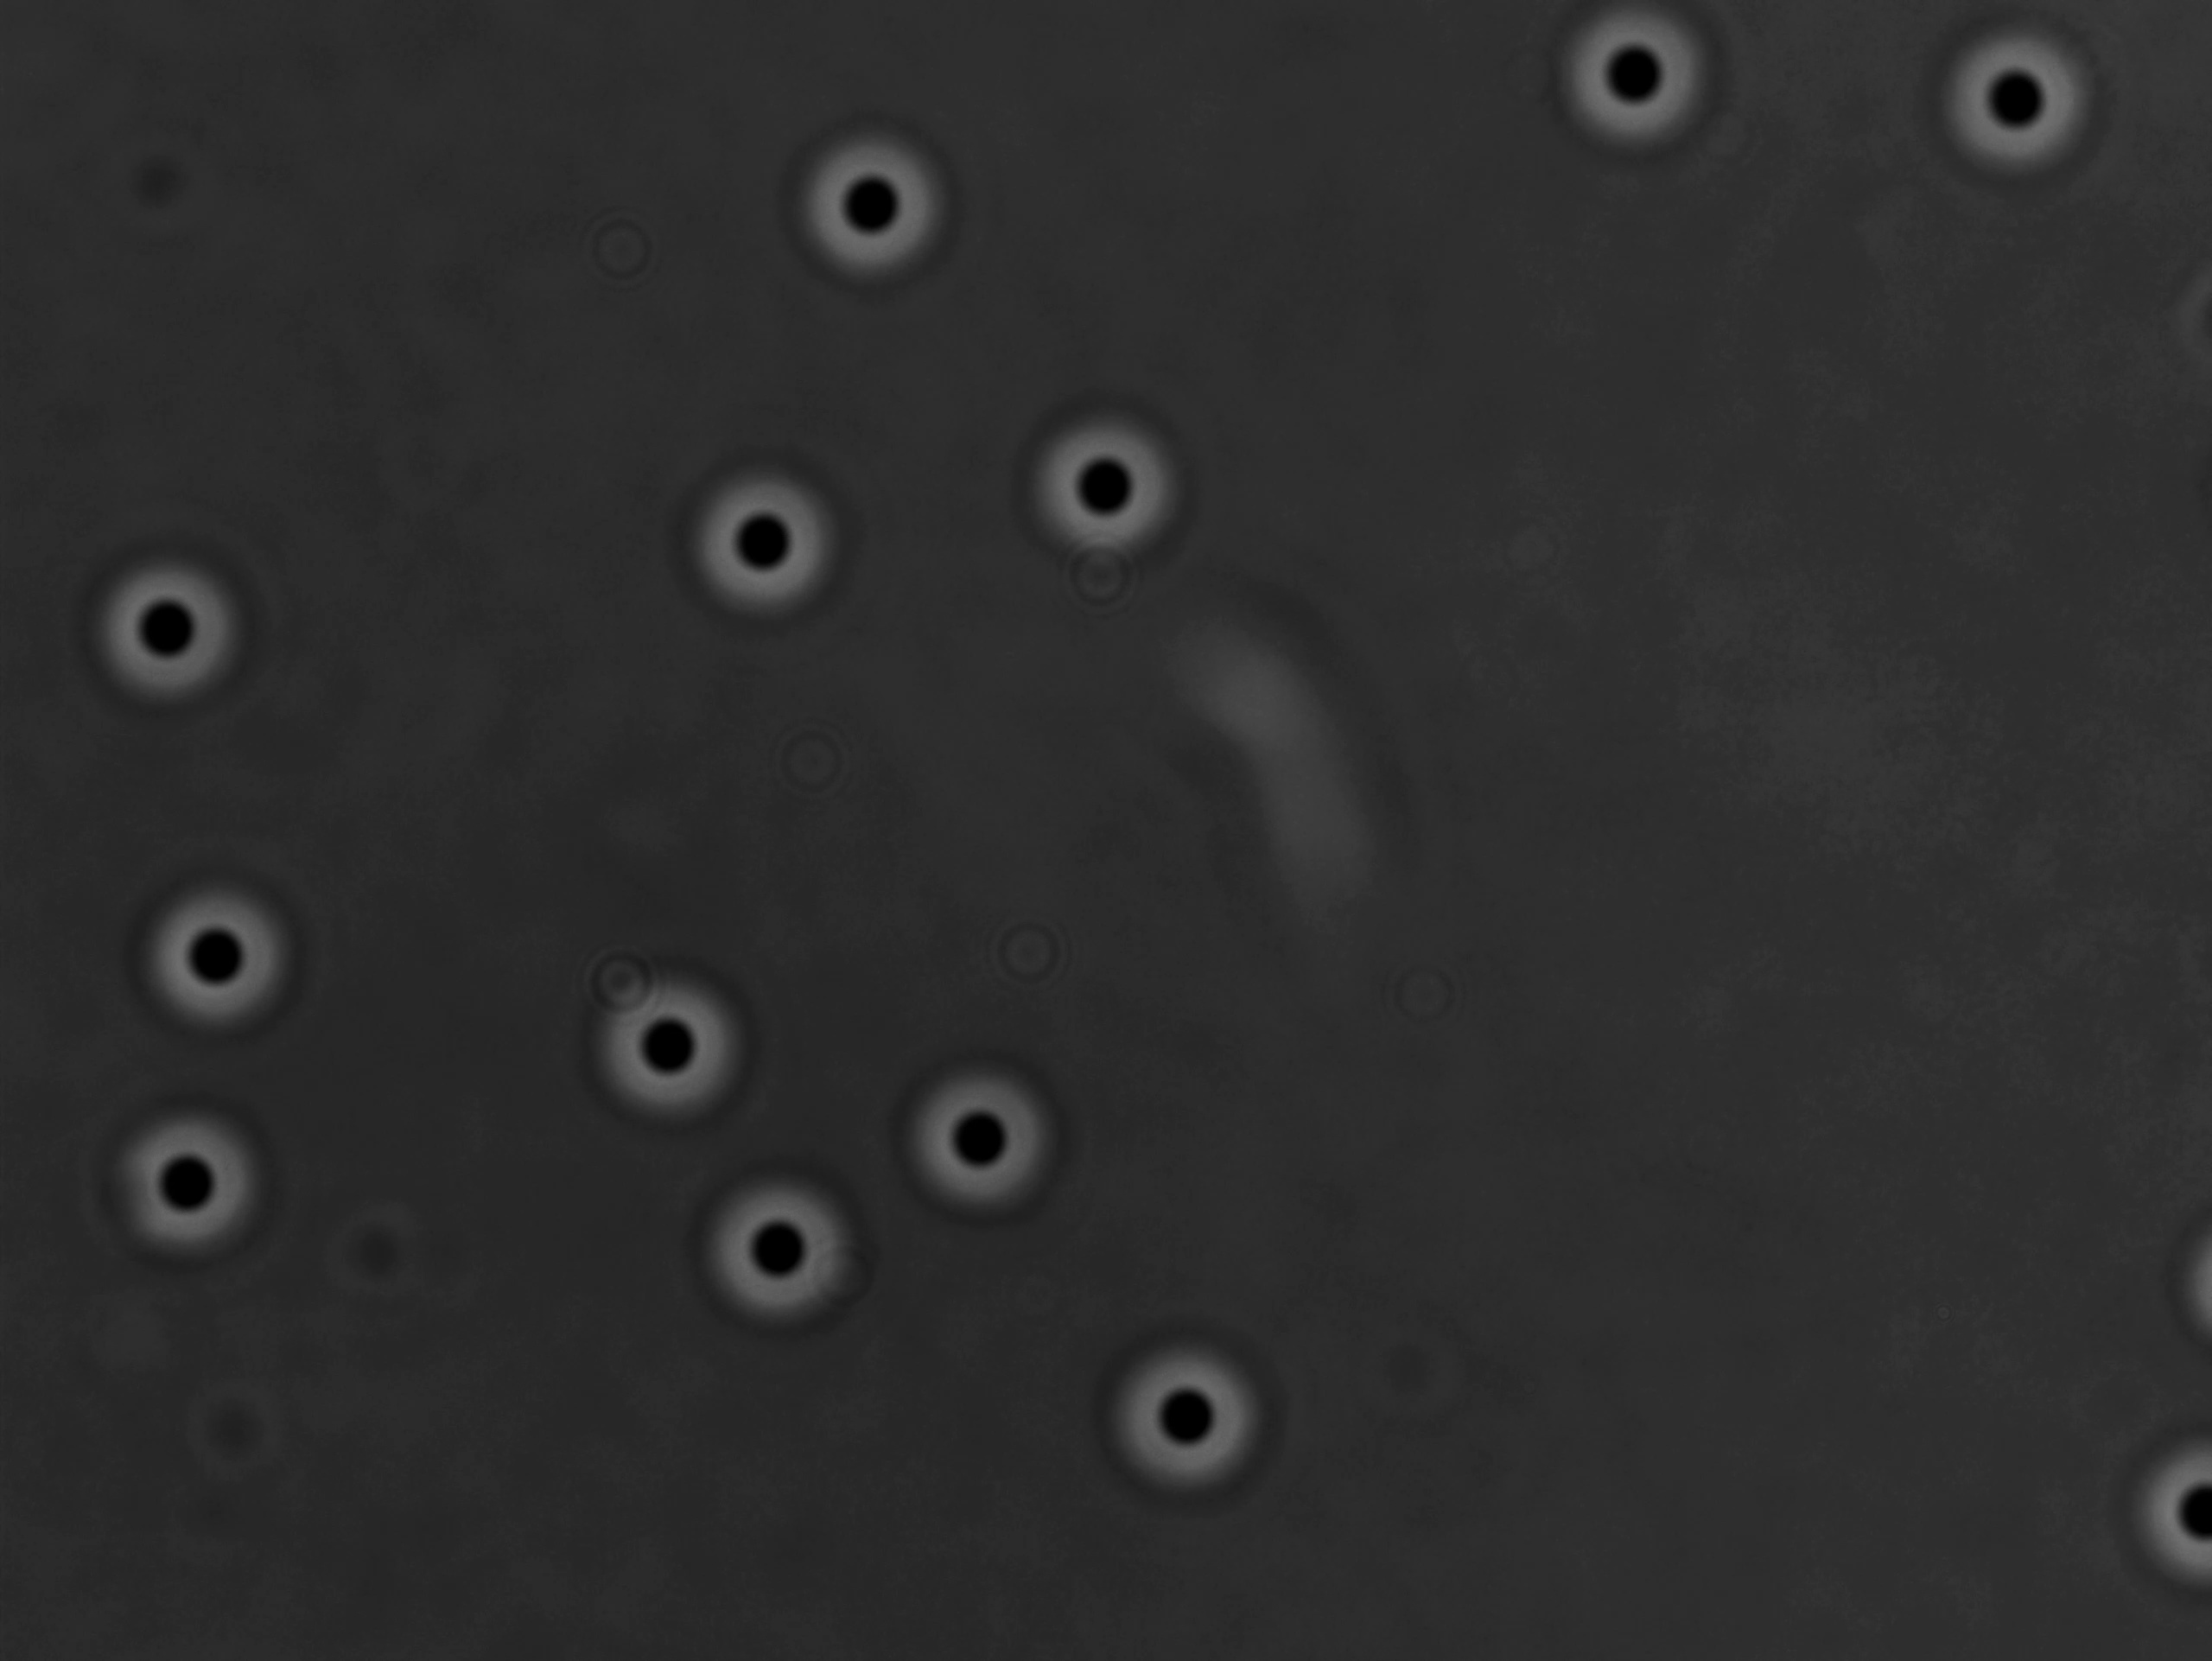depth:-40: (577, 949, 762, 1136), (61, 529, 253, 707), (1926, 17, 2109, 199), (787, 117, 966, 291), (897, 1047, 1069, 1228), (1015, 398, 1191, 574), (101, 1096, 276, 1270), (675, 450, 846, 625), (1101, 1335, 1280, 1500), (1553, 3, 1729, 162), (141, 871, 309, 1031), (696, 1176, 857, 1333)
